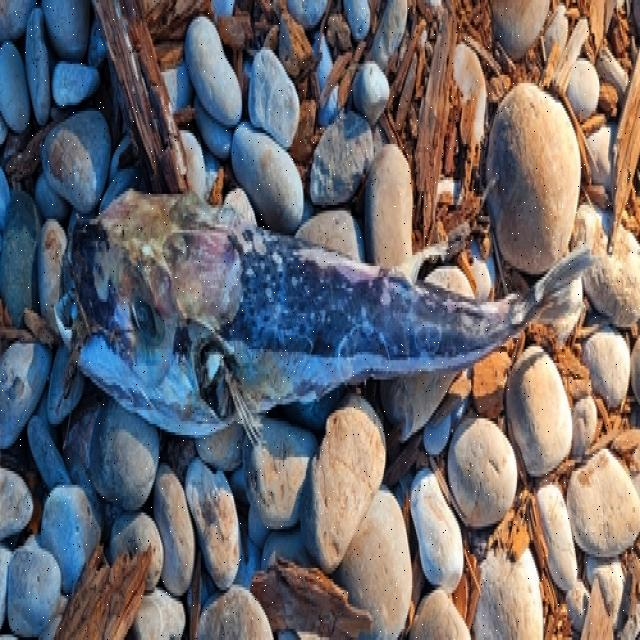Balik: (57, 192, 590, 440)
